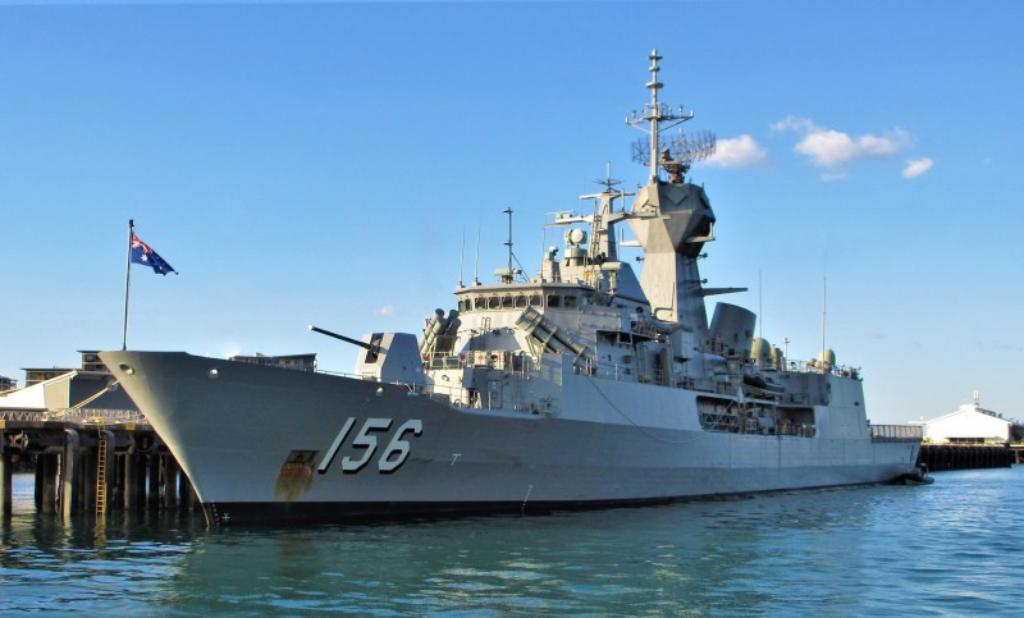Warship: (88, 37, 934, 542)
